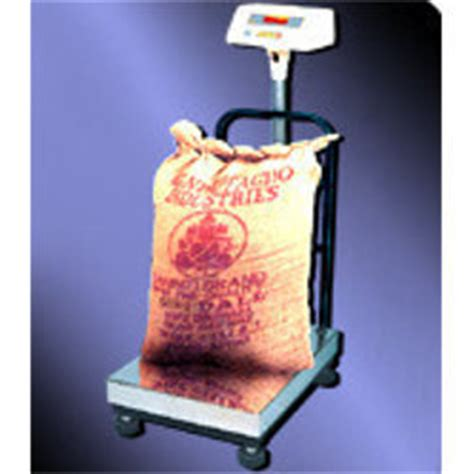Industrial Scale: (104, 2, 346, 472)
